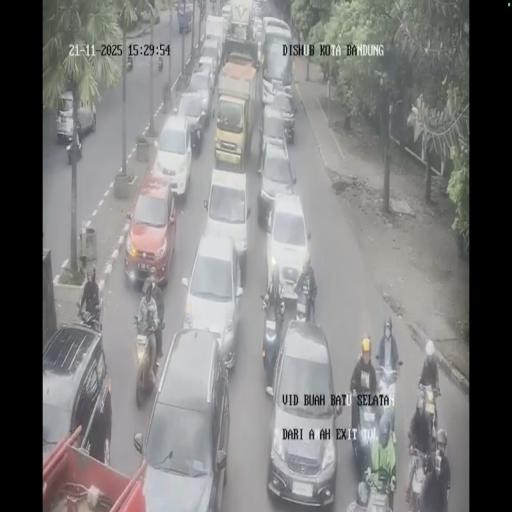3: (214, 58, 258, 172)
car: (266, 320, 338, 504), (42, 321, 112, 469), (125, 176, 179, 284), (202, 166, 250, 276), (258, 123, 298, 228), (176, 89, 210, 153), (261, 16, 293, 82), (55, 91, 96, 142), (202, 15, 226, 71), (250, 13, 264, 57), (139, 3, 157, 23), (221, 2, 232, 26)
truck: (132, 309, 162, 405), (354, 400, 378, 482), (374, 362, 400, 437), (405, 442, 429, 511), (294, 268, 316, 321), (75, 297, 102, 332), (66, 131, 82, 164)
